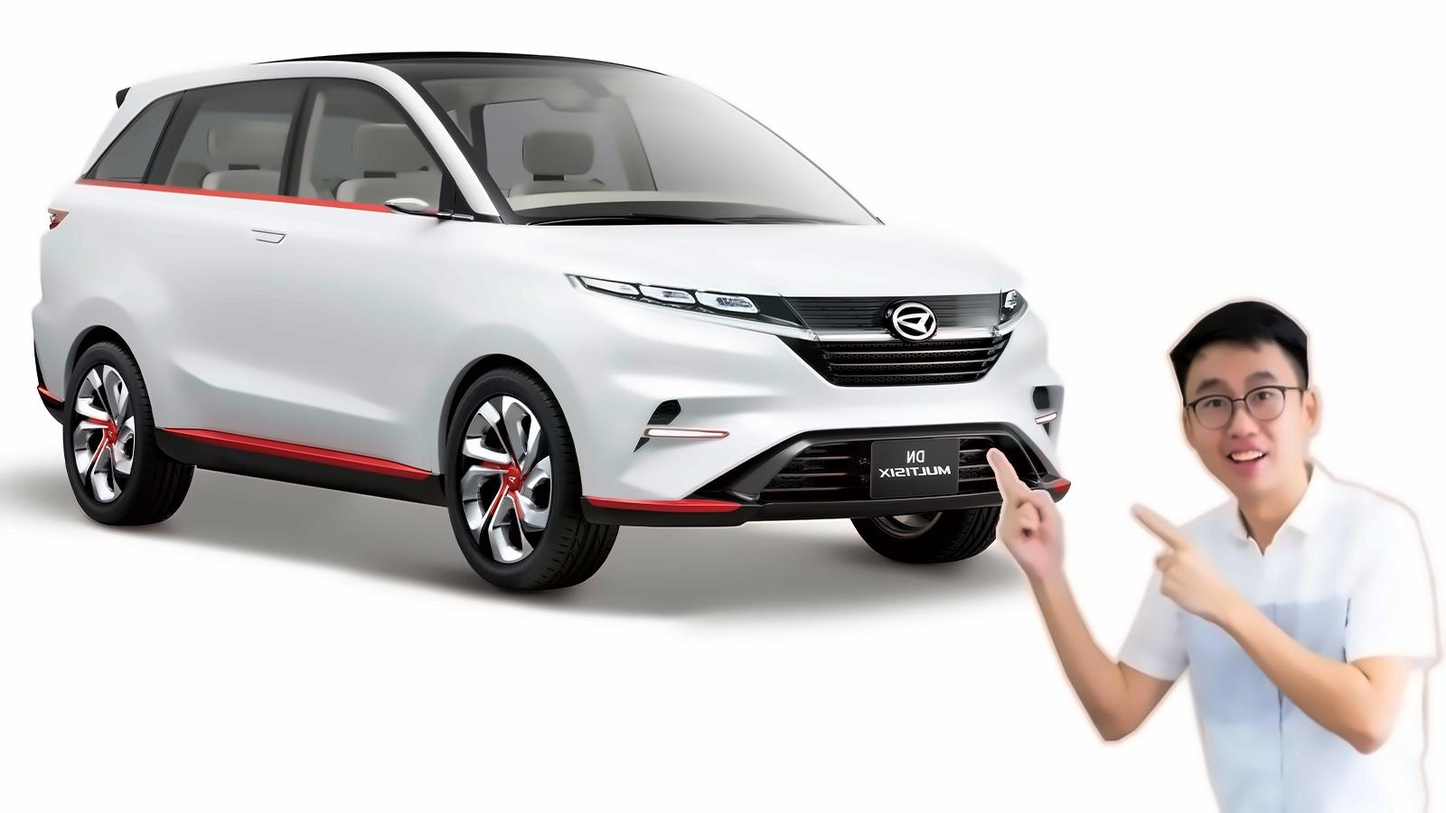Car hood: (518, 217, 1025, 296)
Driver-s door - -F-R-: (234, 47, 454, 511)
Fender - -F-R-: (431, 203, 579, 516)
Fender - -R-R-: (36, 152, 155, 427)
Front bumper: (548, 303, 1072, 527)
Headlight - -R-: (559, 270, 810, 343)
Passenger-s door - -R-R-: (129, 47, 319, 507)
Rear bumper: (25, 303, 75, 439)
Side bumper - -R-: (146, 413, 452, 528)
Side mirror - -R-: (382, 194, 477, 227)
